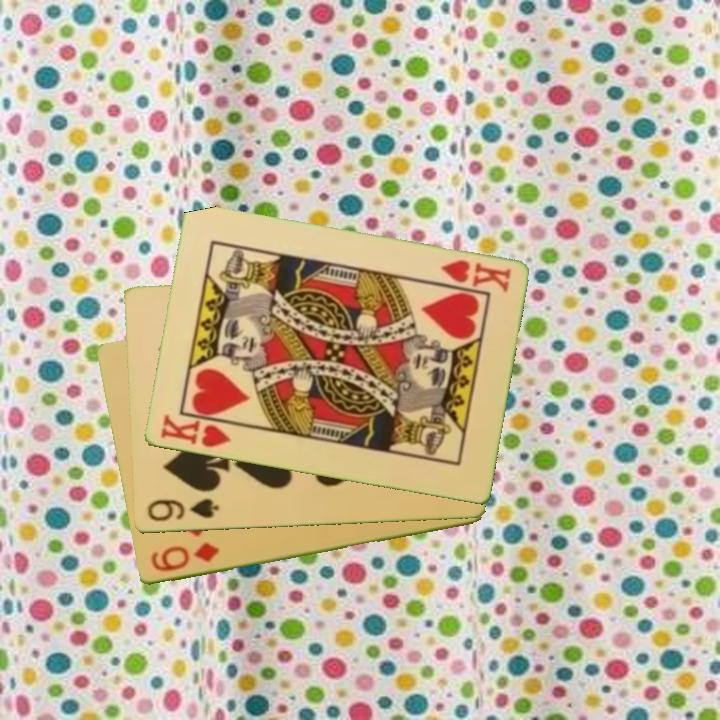6d: (147, 539, 222, 575)
9s: (144, 495, 222, 525)
Kh: (156, 411, 241, 451), (436, 256, 514, 296)
